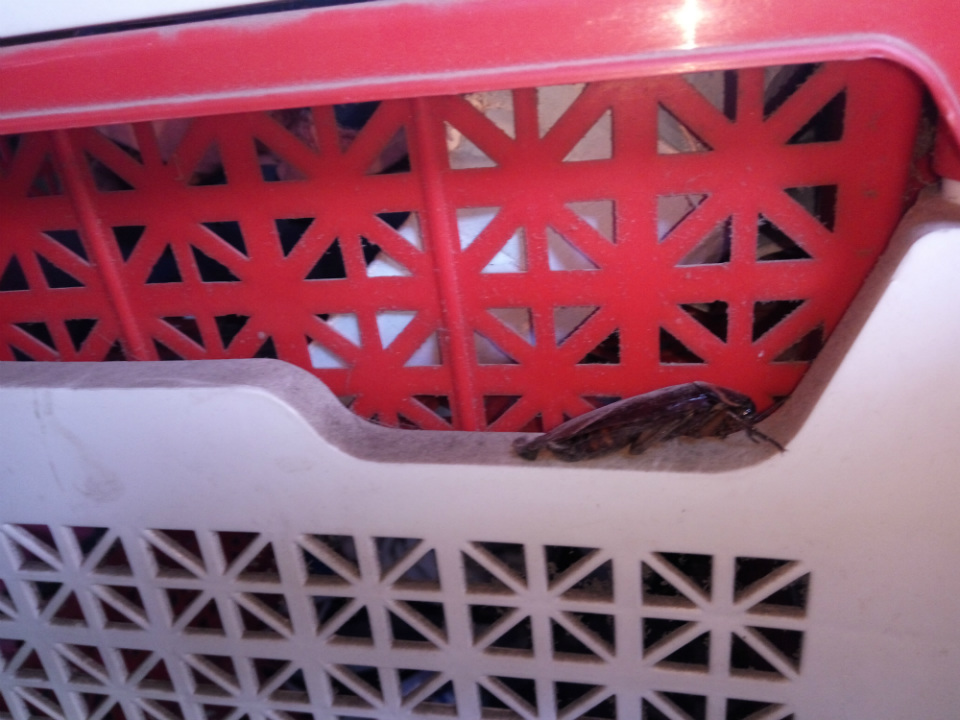cockroach: (494, 358, 820, 468)
